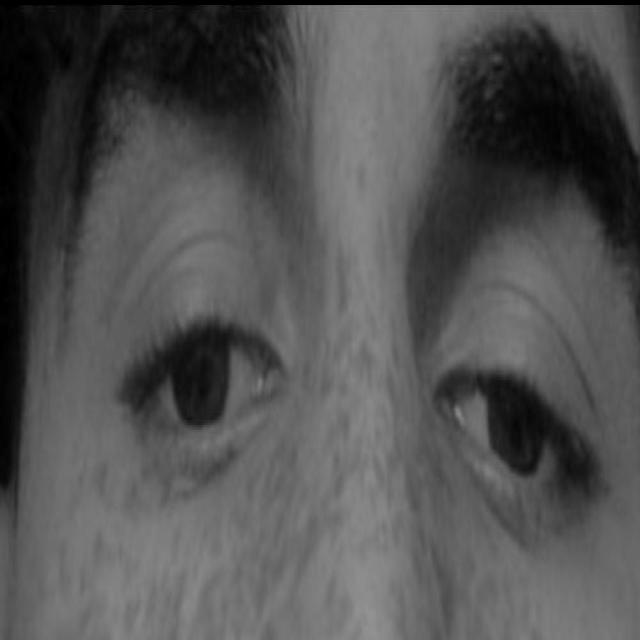real: (98, 84, 622, 596)
